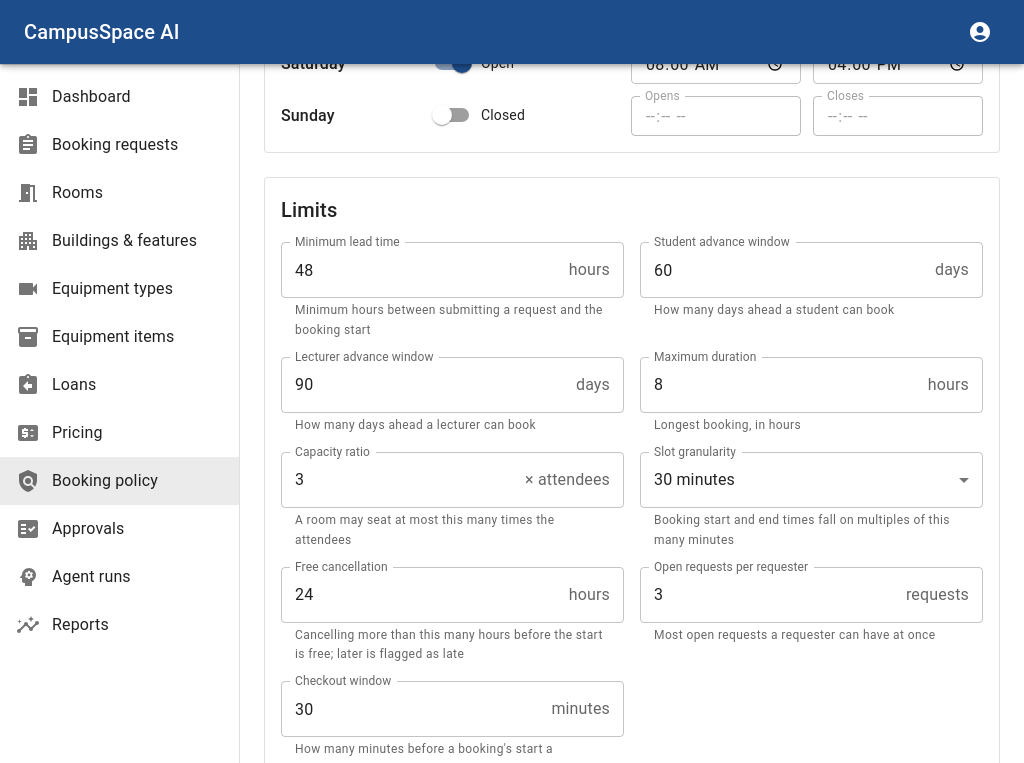
Scenario: PolicyPage › rejects a duration longer than the longest open day
The image size is (1024, 763).
(page scrolled)
Expected: the field labelled "Capacity ratio" is shown, [281,452,517,508]
Replace the text in the field labelled "Maximum duration" with "13" at (780, 385), box [640,357,920,413]
(page scrolled)
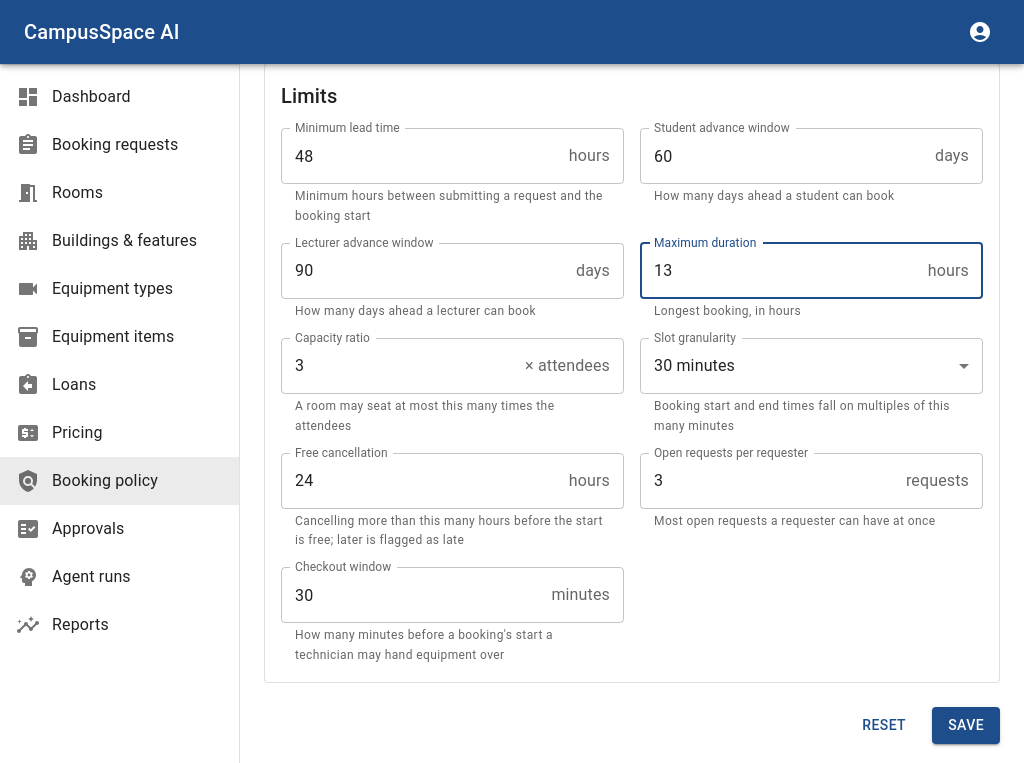
Click the button "Save" at (966, 725), box [932,707,1000,744]
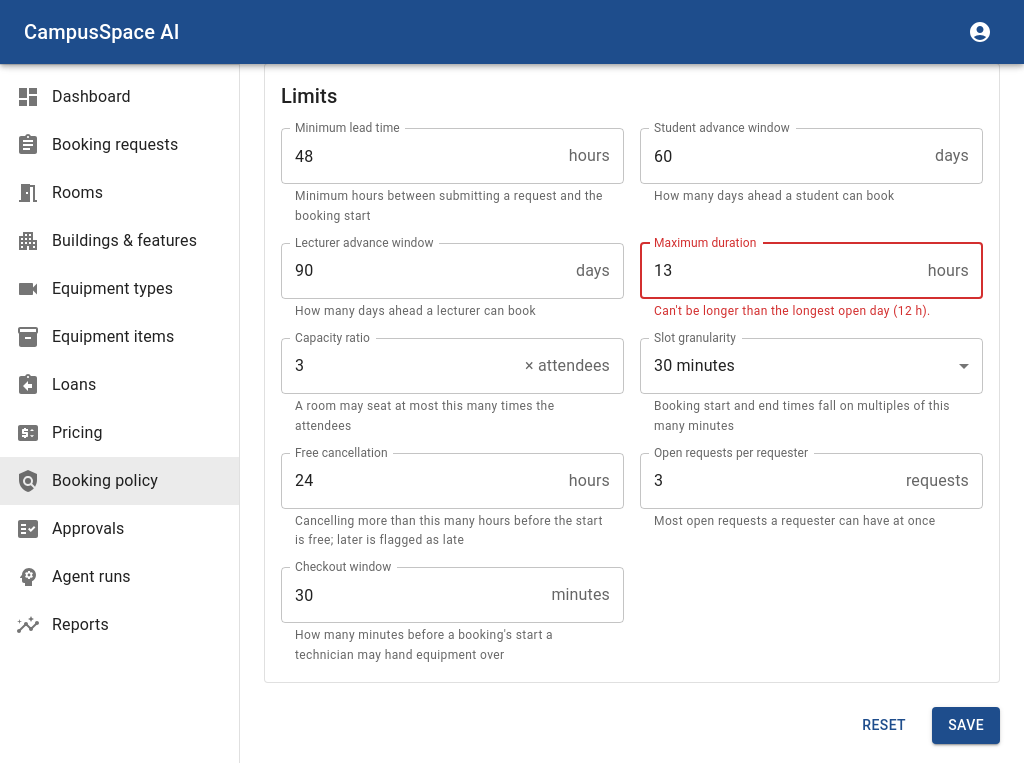
Result: the text "Can't be longer than the longest open day (12 h)." is shown at [654,302,969,322]
